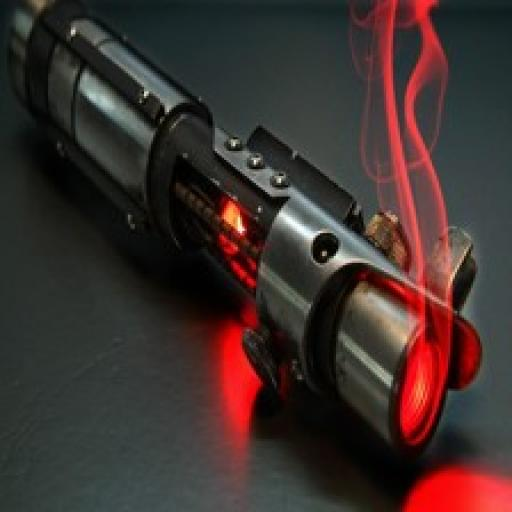lightsaber: (6, 0, 485, 451)
